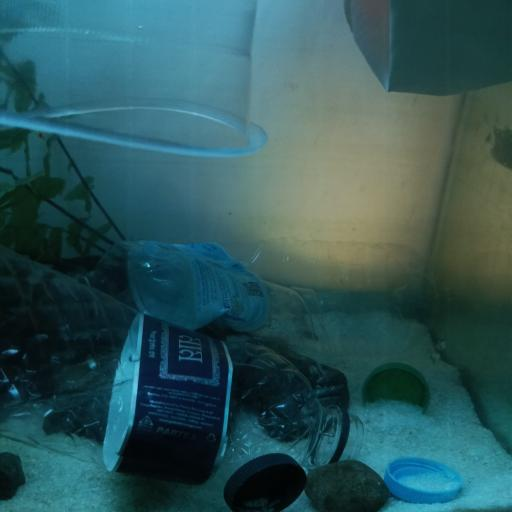bottle_cap: (227, 451, 311, 512), (362, 362, 432, 410), (386, 454, 460, 498)
glove: (349, 0, 512, 96)
plastic_bottle: (0, 248, 371, 478), (78, 235, 432, 344)
plastic_cup: (0, 0, 271, 161)
